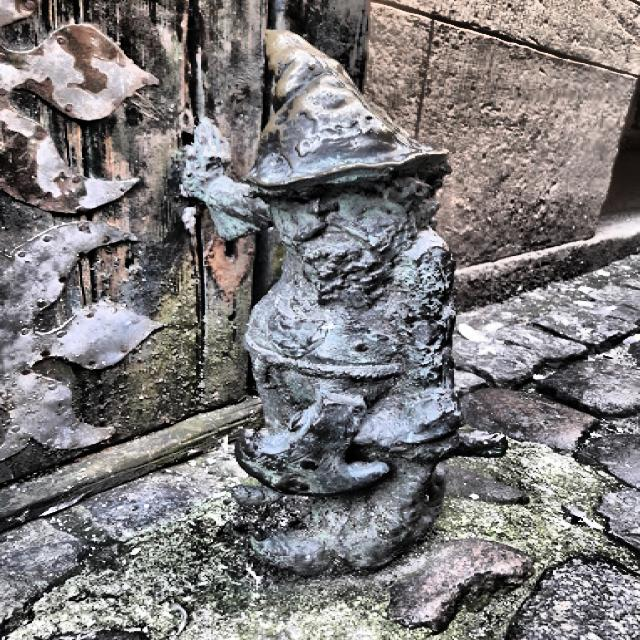Rzeznik: (182, 30, 507, 574)
